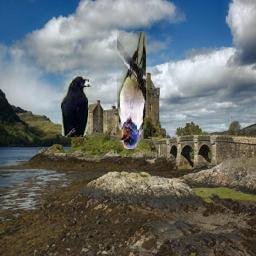Crow: (62, 77, 93, 138)
Swallow: (118, 31, 147, 149)
